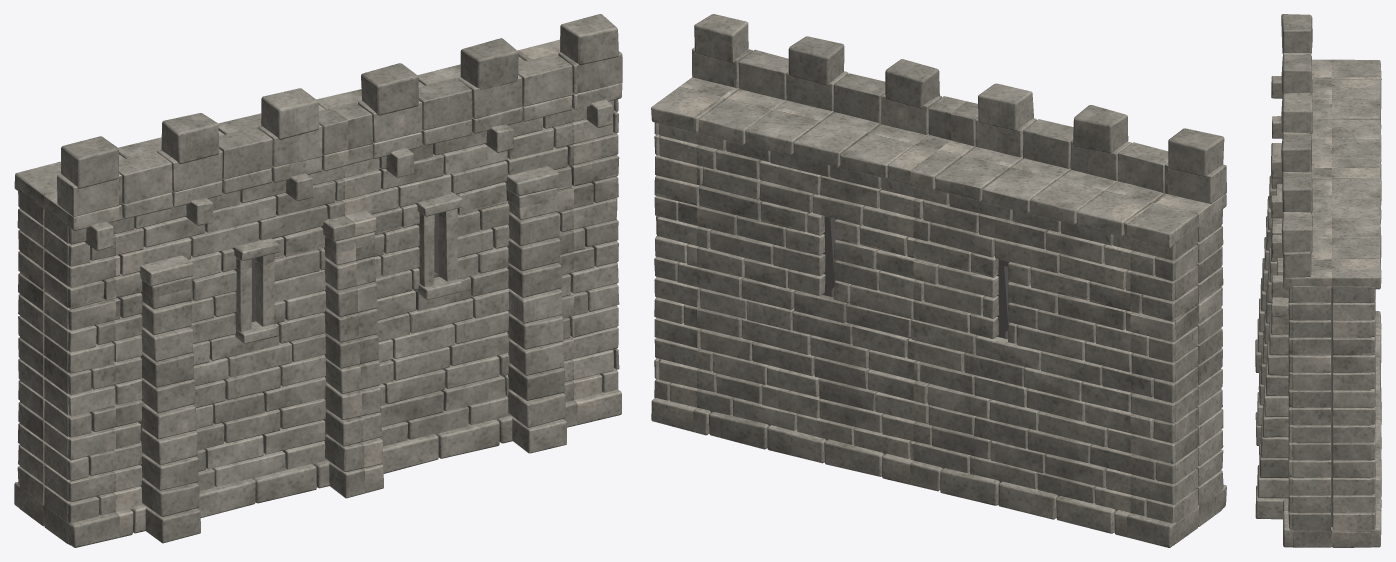
Rendered from wall_straight-LOD1.glb.
The picture shows the model from 3 angles, left to right: view 1: azimuth 30°, elevation 25°; view 2: azimuth 150°, elevation 25°; view 3: azimuth 270°, elevation 25°; orthographic projection. The views are drawn at different scales.
Parts seen in each view (by area): view 1: Bonded ashlar course.001, Bonded ashlar course.005, Bonded ashlar course, Bonded ashlar course.015, Bonded ashlar course.017, Walkway dressed coping, Bonded ashlar course.003; view 2: Bonded ashlar course, Bonded ashlar course.001, Bonded ashlar course.015, Bonded ashlar course.005, Walkway dressed coping, Bonded ashlar course.017, Bonded ashlar course.003, Masonry recessed structural backing; view 3: Walkway dressed coping, Bonded ashlar course.001, Bonded ashlar course.005, Bonded ashlar course.017, Bonded ashlar course, Bonded ashlar course.015, Bonded ashlar course.003, Masonry recessed structural backing.
Boxes of the visible parts, x1,y1,x2,y2 form: Bonded ashlar course.001: [18, 88, 621, 517]; Bonded ashlar course.005: [18, 51, 622, 543]; Bonded ashlar course: [14, 53, 618, 547]; Bonded ashlar course.015: [17, 75, 618, 533]; Bonded ashlar course.017: [17, 38, 619, 516]; Walkway dressed coping: [14, 39, 622, 343]; Bonded ashlar course.003: [18, 14, 618, 483]; Bonded ashlar course: [654, 49, 1226, 547]; Bonded ashlar course.001: [651, 83, 1226, 545]; Bonded ashlar course.015: [655, 71, 1222, 533]; Bonded ashlar course.005: [654, 47, 1224, 543]; Walkway dressed coping: [651, 77, 1226, 248]; Bonded ashlar course.017: [654, 36, 1222, 503]; Bonded ashlar course.003: [654, 14, 1221, 503]; Masonry recessed structural backing: [702, 184, 1009, 339]; Walkway dressed coping: [1271, 59, 1381, 316]; Bonded ashlar course.001: [1257, 53, 1381, 547]; Bonded ashlar course.005: [1255, 14, 1381, 547]; Bonded ashlar course.017: [1257, 134, 1375, 547]; Bonded ashlar course: [1255, 92, 1381, 512]; Bonded ashlar course.015: [1255, 132, 1381, 519]; Bonded ashlar course.003: [1258, 94, 1375, 512]; Masonry recessed structural backing: [1331, 289, 1332, 526].
Bounding box in the file's own units: 8 × 5.45 × 1.95.
Materials: 8 (7 with a texture image).
